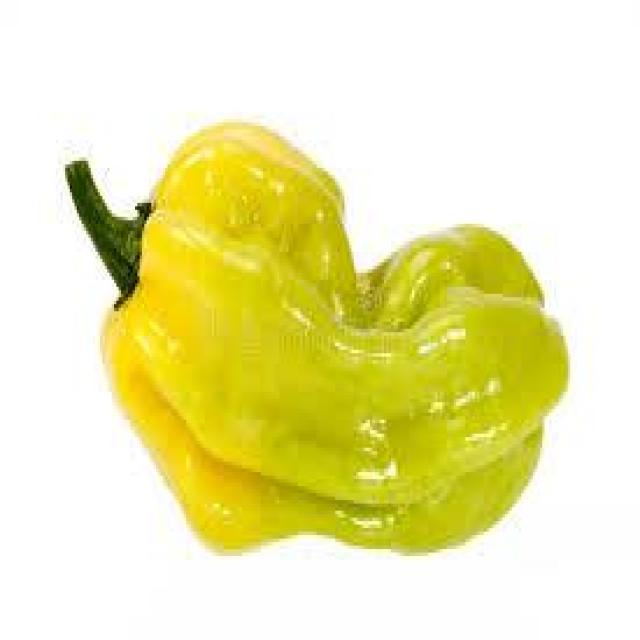organic: (63, 119, 570, 560)
